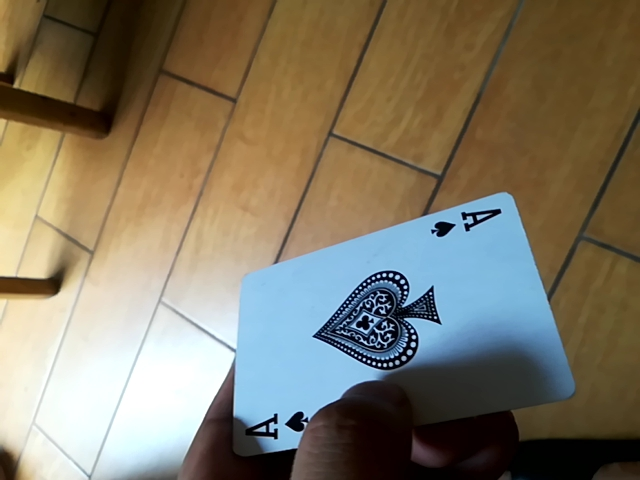ht a: (235, 194, 555, 448)
